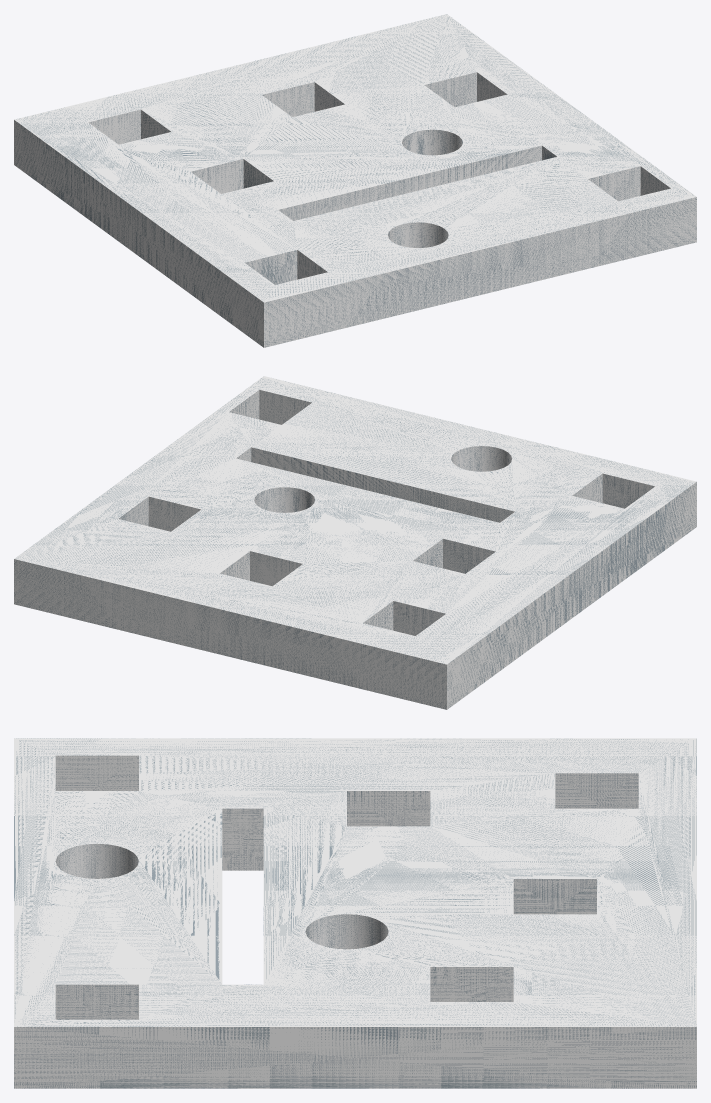
The picture shows the model from 3 angles, top to bottom: view 1: azimuth 30°, elevation 25°; view 2: azimuth 150°, elevation 25°; view 3: azimuth 270°, elevation 25°; orthographic projection. The views are drawn at different scales.
Visible parts, largest first — view 1: Model; view 2: Model; view 3: Model.
Part boxes in pixels (x1,y1,x2,y2): Model: [14, 14, 696, 347]; Model: [14, 376, 696, 709]; Model: [14, 738, 696, 1088].
Size of the model in its own units: 5 by 0.5 by 5.
